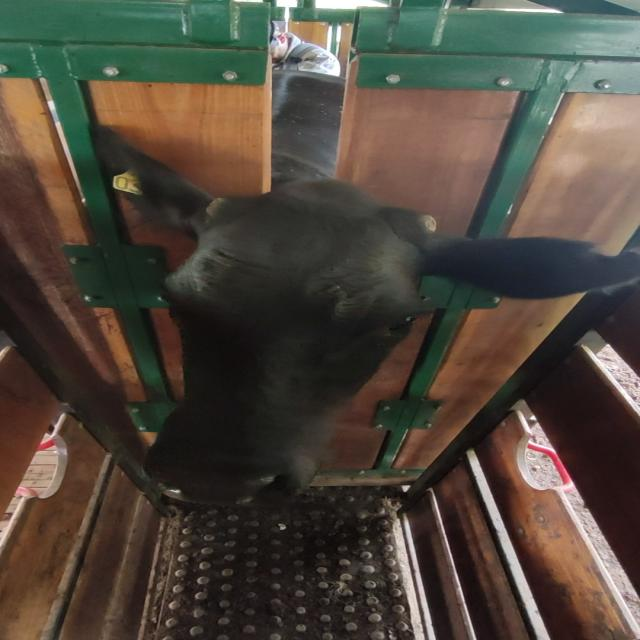cowFace: (151, 192, 427, 505)
